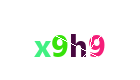9: (29, 0, 109, 80), (57, 0, 137, 80)
H: (37, 0, 117, 80)
X: (12, 0, 92, 80)
